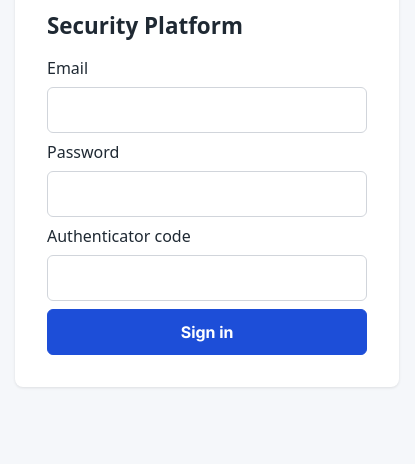
it: LoginForm › shows the API error
In the field labelled "Email": (207, 110) left=47, top=87, right=367, bottom=133, type "a@example.test"
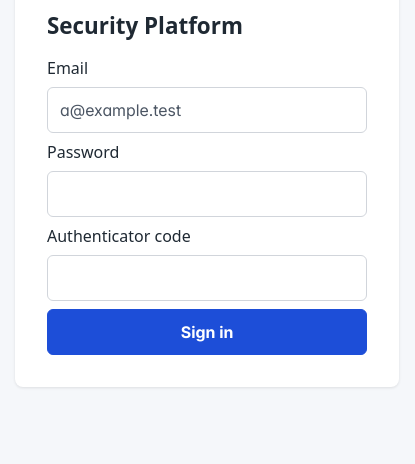
In the password field labelled "Password": (207, 194) left=47, top=171, right=367, bottom=217, type "x"
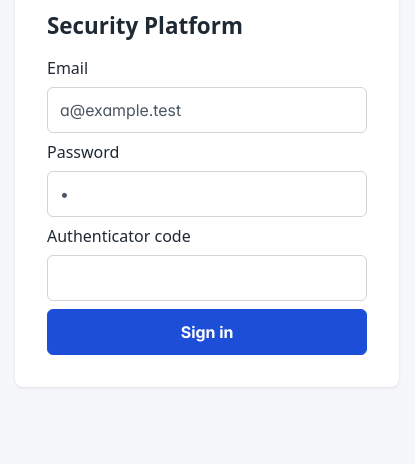
Click the button "Sign in": (207, 332) left=47, top=309, right=367, bottom=355
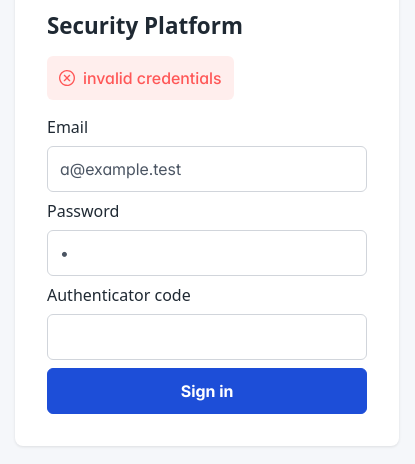
Check: the text "invalid credentials" is shown, box left=83, top=68, right=222, bottom=88
